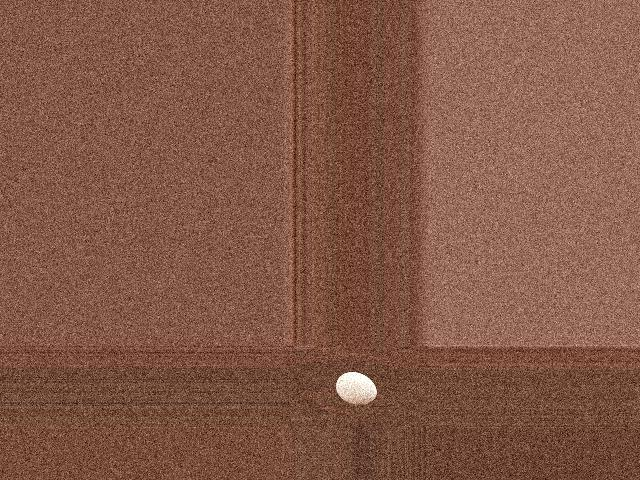egg: (336, 372, 377, 404)
